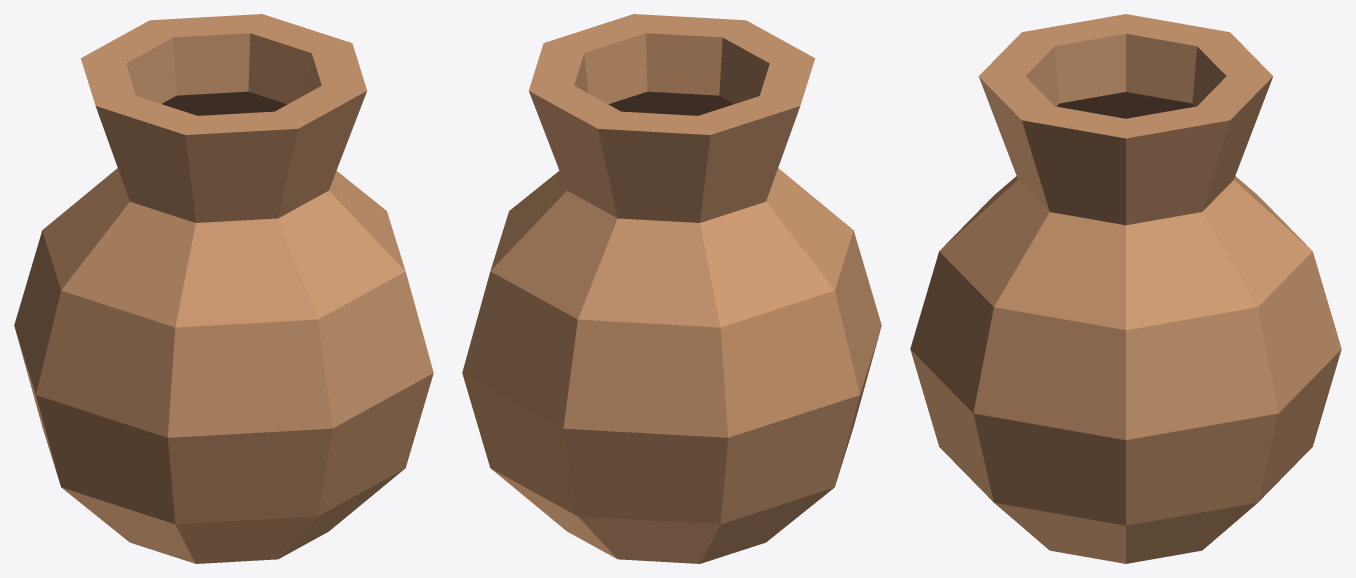
Rendered from envi_sack.fbx.
3 views of the same model, side by side, from view 1: azimuth 30°, elevation 25°; view 2: azimuth 150°, elevation 25°; view 3: azimuth 270°, elevation 25° (orthographic).
Visible parts, largest first — view 1: pCylinder20; view 2: pCylinder20; view 3: pCylinder20.
Part boxes in pixels (x1,y1,x2,y2): pCylinder20: (14, 14, 433, 563); pCylinder20: (462, 14, 881, 563); pCylinder20: (910, 14, 1341, 563).
Size of the model in its own units: 2 by 2.26 by 2.
